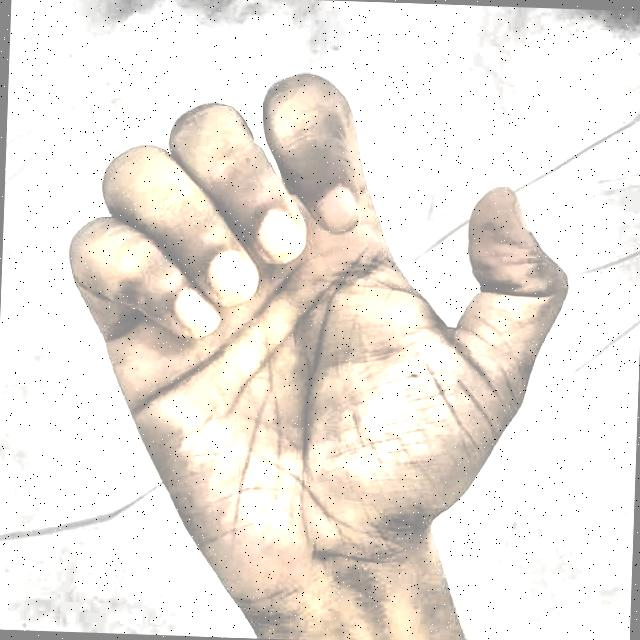Dho: (26, 42, 584, 631)
